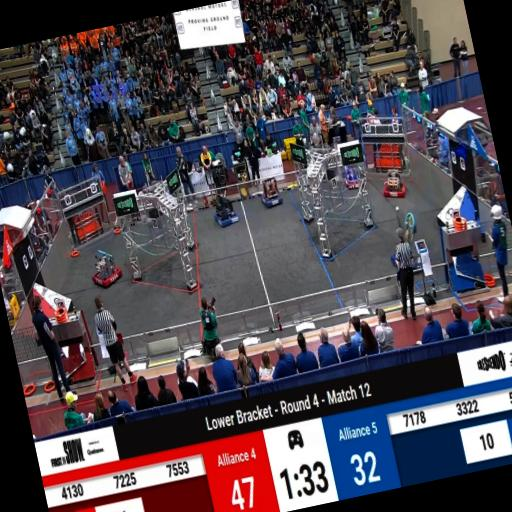robot: (86, 247, 122, 289), (210, 189, 240, 227), (380, 172, 406, 202), (258, 178, 283, 208), (342, 165, 365, 190)
